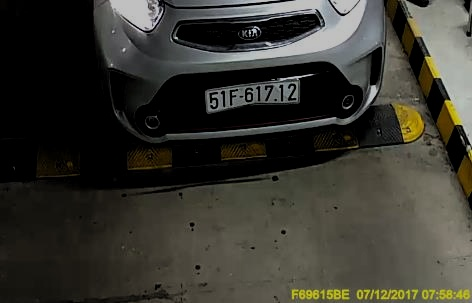plate: (201, 76, 304, 115)
